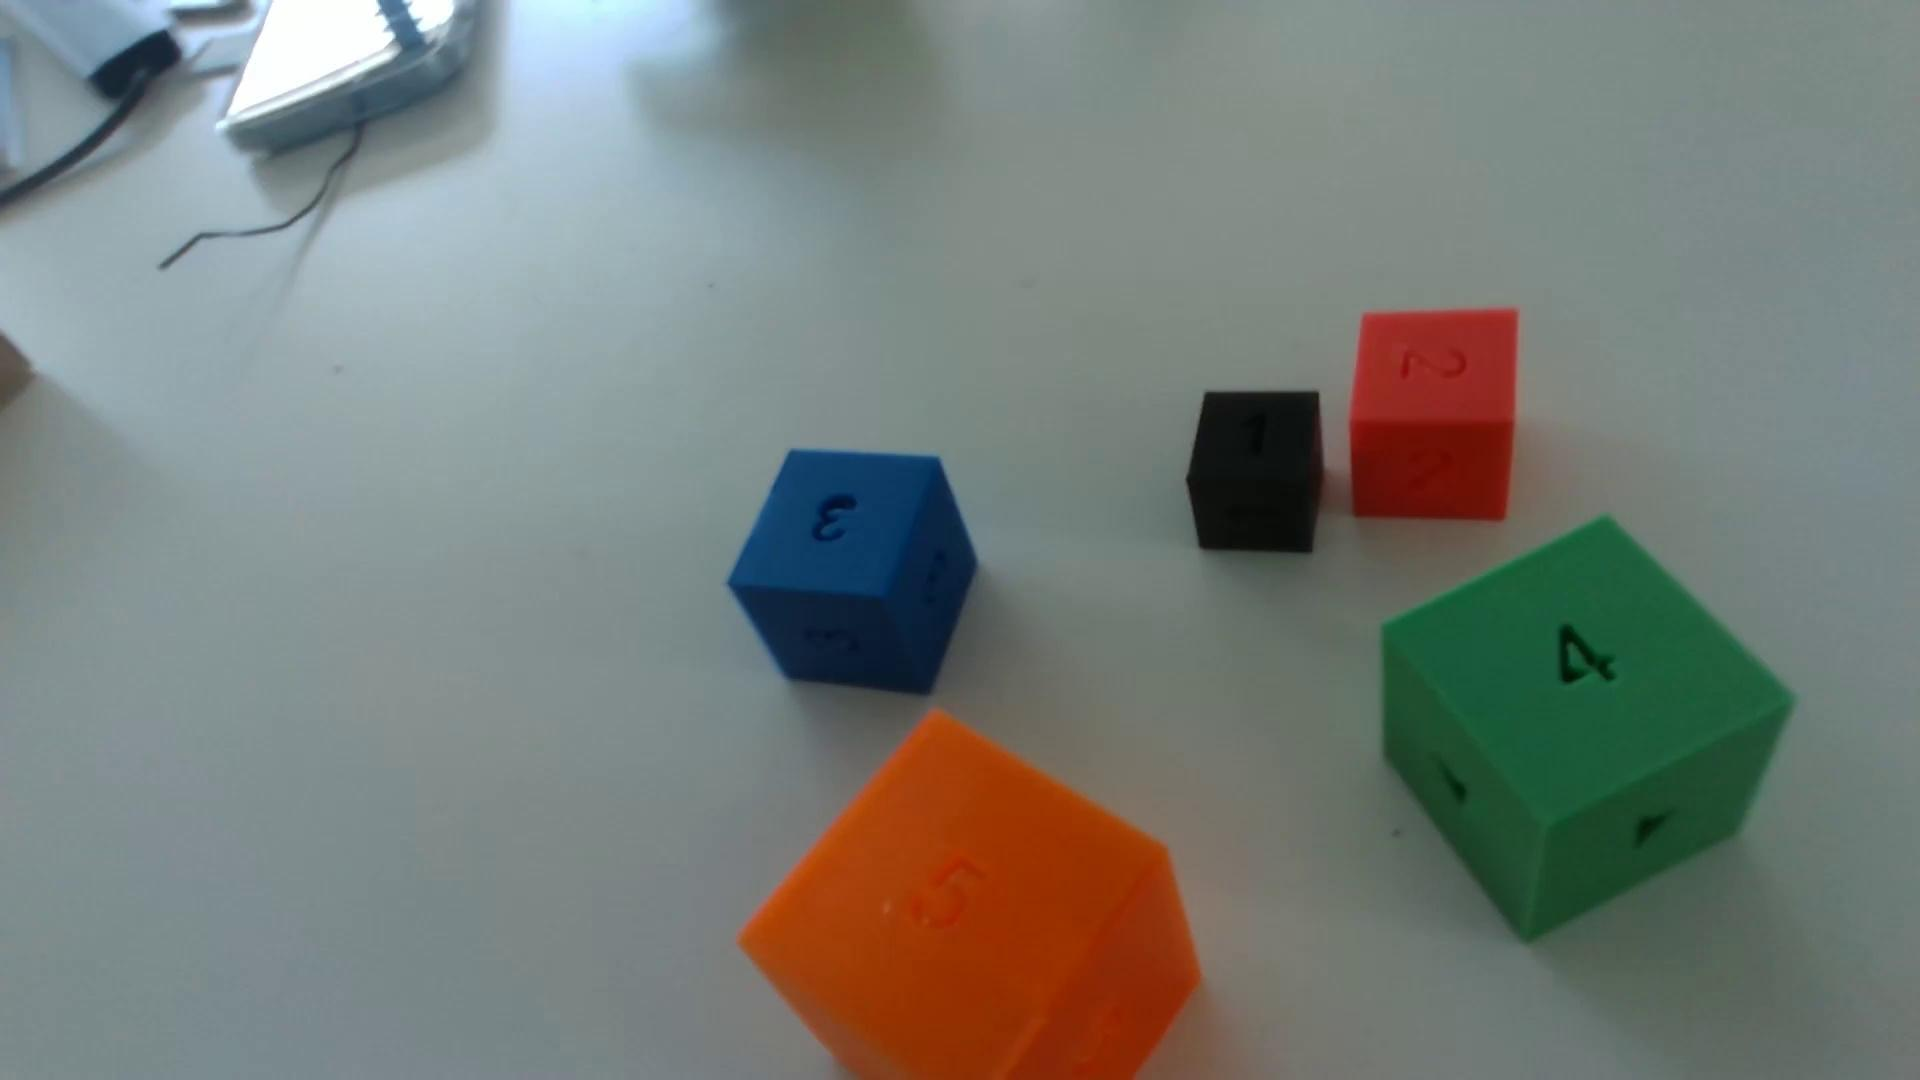black: (1185, 392, 1324, 555)
blue: (728, 451, 978, 695)
green: (1381, 520, 1793, 942)
orange: (738, 713, 1200, 1080)
red: (1349, 310, 1519, 522)
